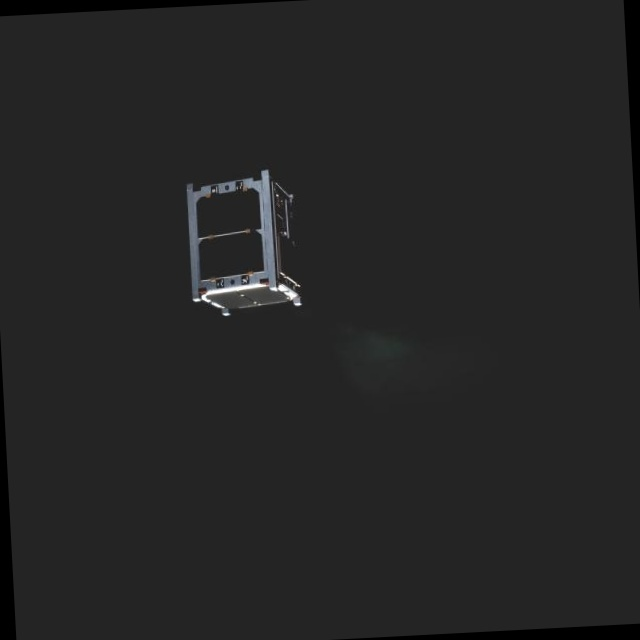medium_debris: (181, 160, 307, 324)
